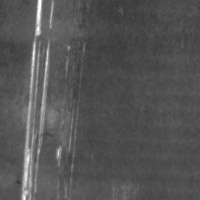scratches: (19, 0, 55, 199), (54, 123, 78, 172)
